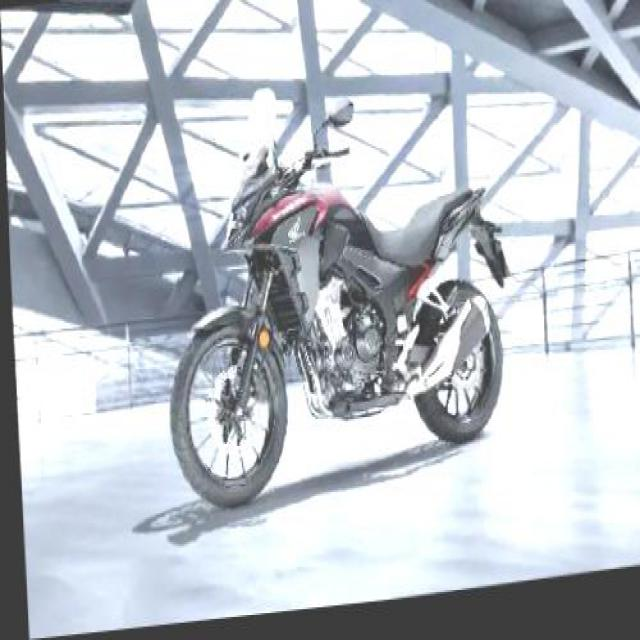CB500X: (150, 65, 509, 521)
